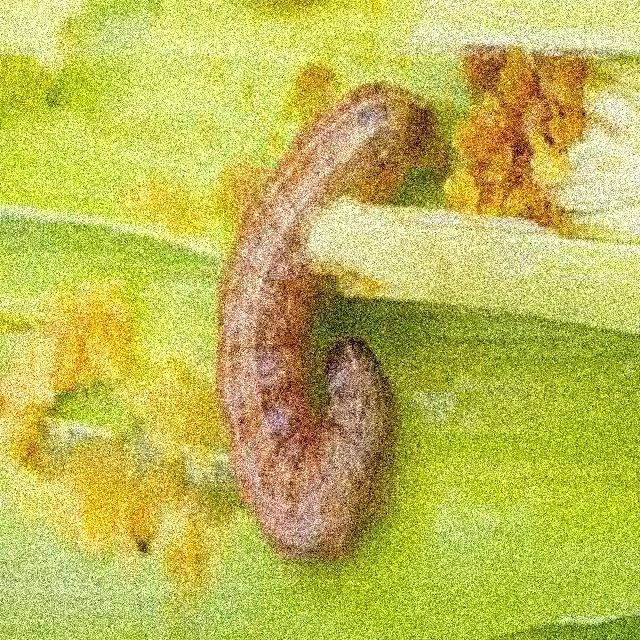gusano_cogollero: (210, 79, 436, 564)
